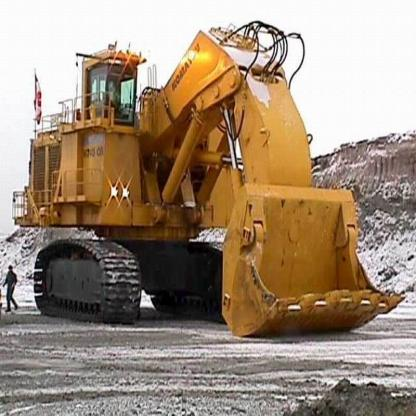excavator: (16, 29, 407, 345)
